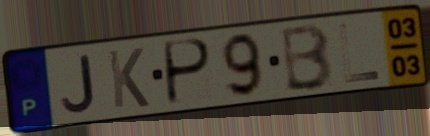9: (217, 30, 266, 100)
B: (280, 21, 336, 94)
J: (59, 52, 99, 116)
K: (105, 46, 152, 111)
L: (336, 21, 383, 86)
P: (163, 37, 215, 109)
